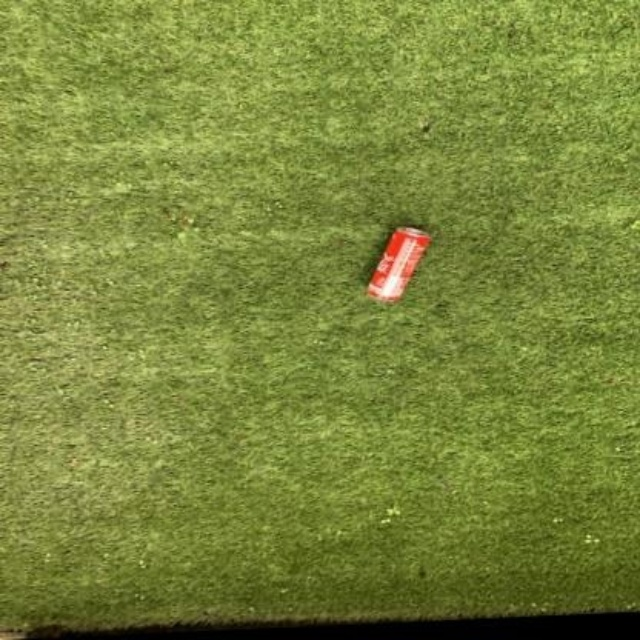trash: (369, 228, 429, 300)
